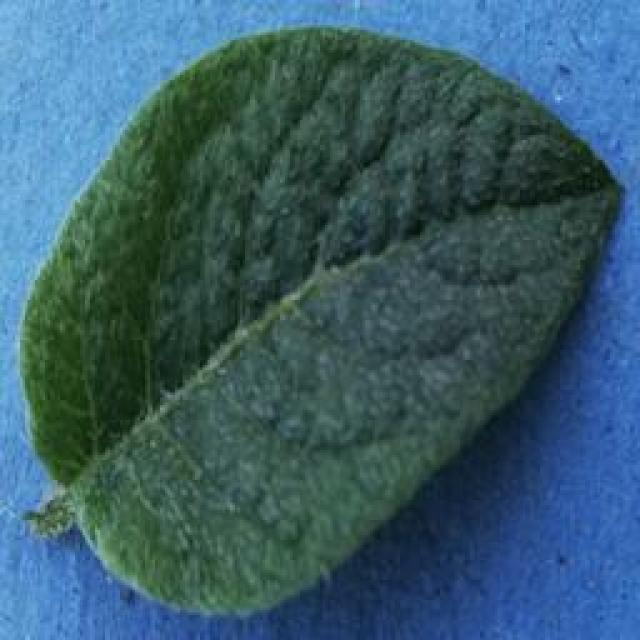Potato_Healthy: (20, 25, 618, 615)
